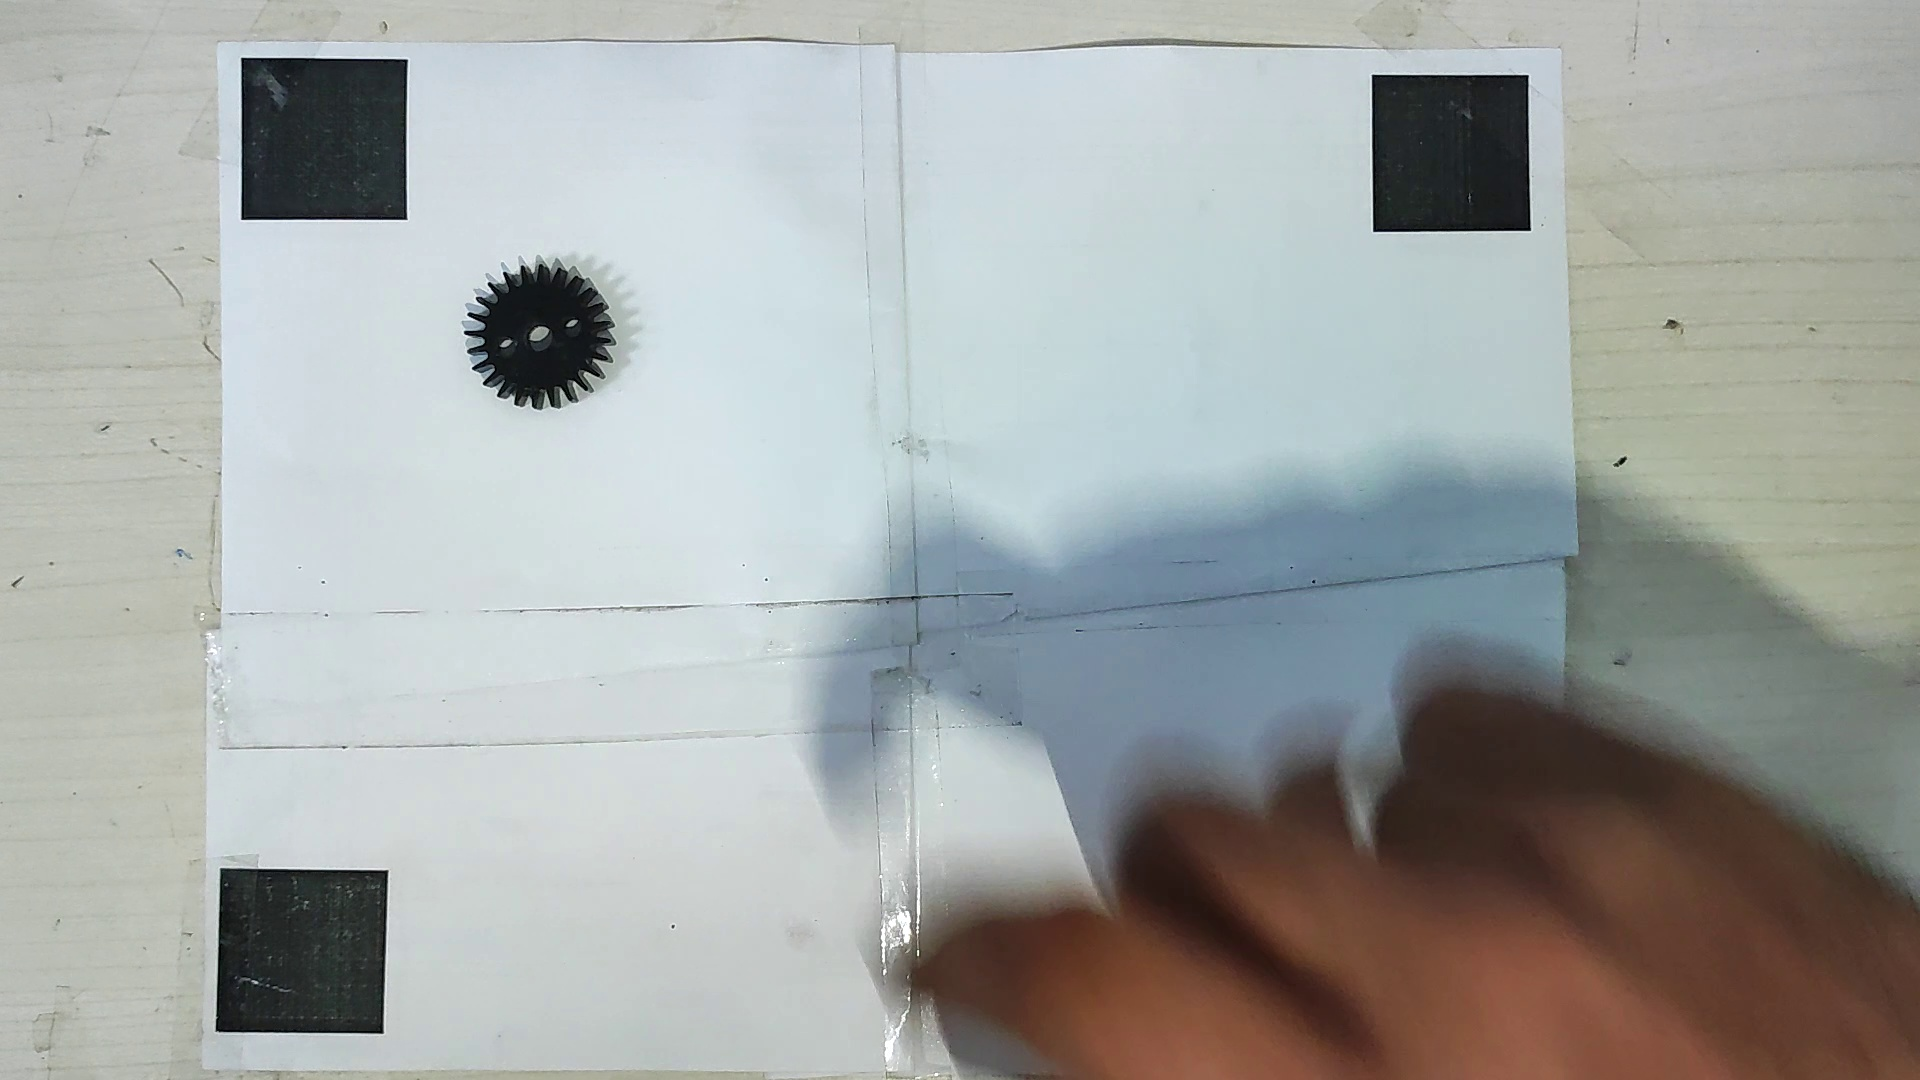Gear: (454, 255, 624, 418)
